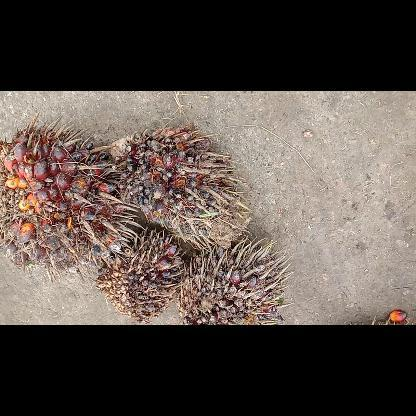TBS abnormal: (112, 126, 244, 244), (176, 242, 286, 324), (99, 228, 181, 324)
TBS masak: (0, 118, 128, 272)
